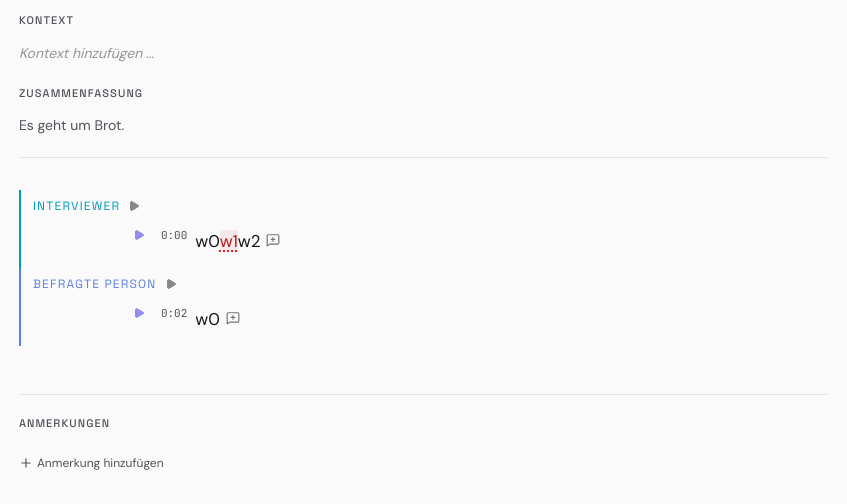
Scenario: Transcript › Escape verwirft, statt zu schreiben
Click the button "Es geht um Brot.".
click(72, 125)  # box [19,114,670,137]
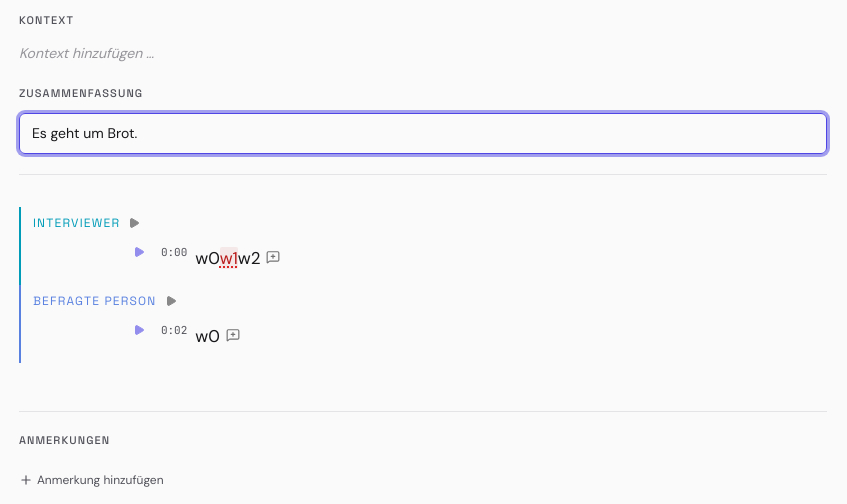
Replace the text in the text box with "Unsinn" at [423, 133], box [19,113,827,154]
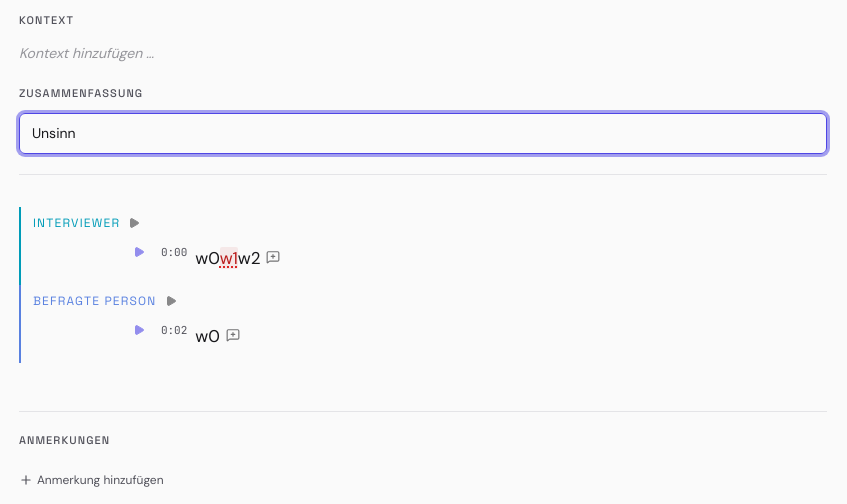
Press Escape in the text box, box [19,113,827,154]
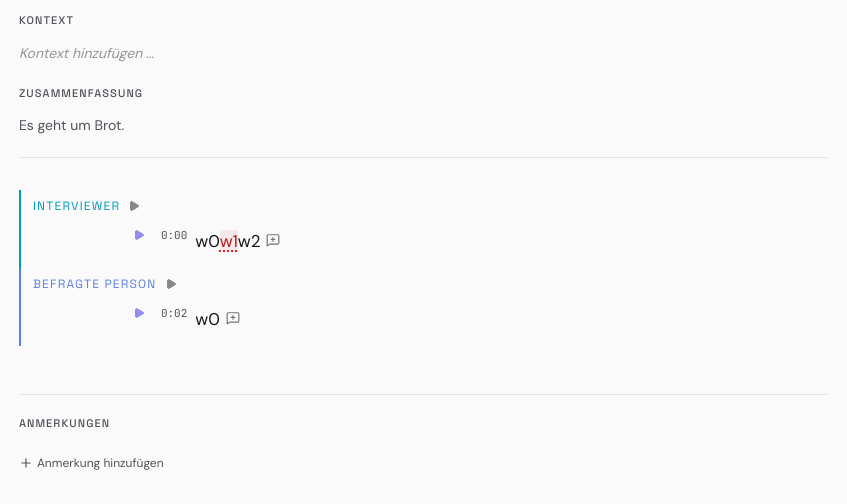
Expected: the button "Es geht um Brot." is shown, [19,114,670,137]
